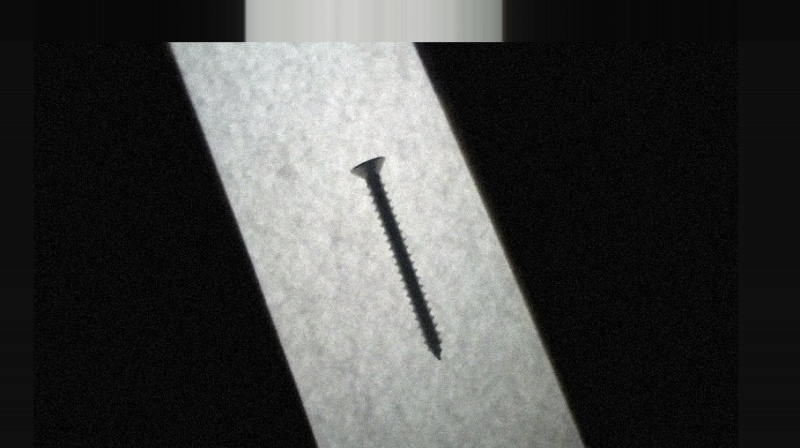S002: (346, 153, 444, 363)
